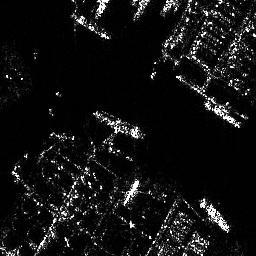ship: (91, 108, 144, 138), (198, 195, 231, 233), (71, 11, 112, 41), (202, 101, 241, 128)
